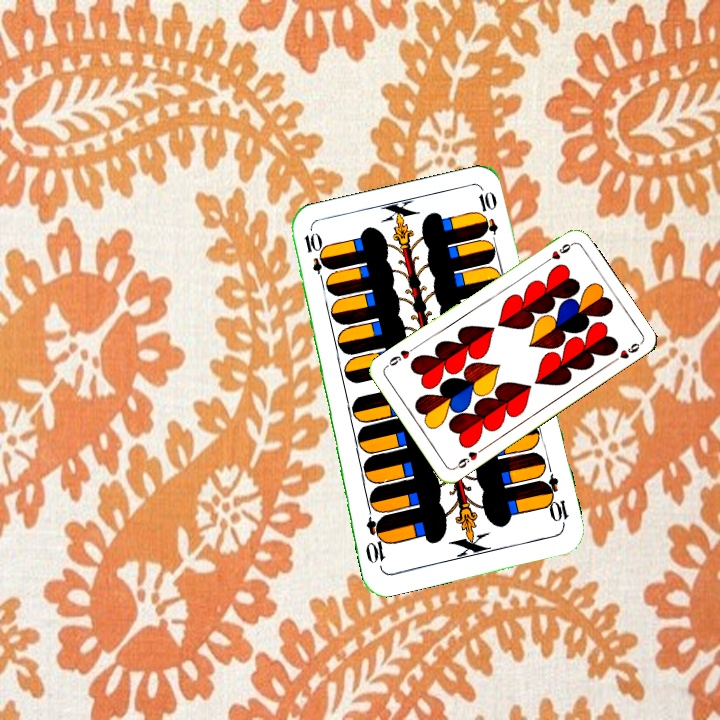E10: (537, 471, 572, 530), (300, 228, 329, 287)
H9: (450, 444, 486, 472), (539, 239, 576, 266)
